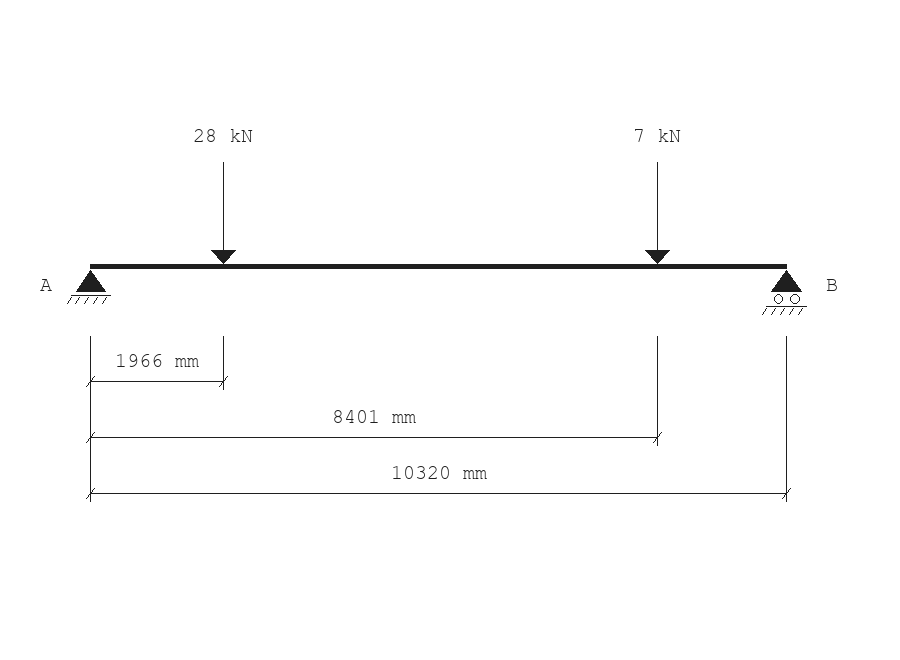pin_support: (67, 270, 111, 304)
point_load: (211, 162, 236, 264), (645, 162, 670, 264)
roller_support: (762, 270, 807, 315)
